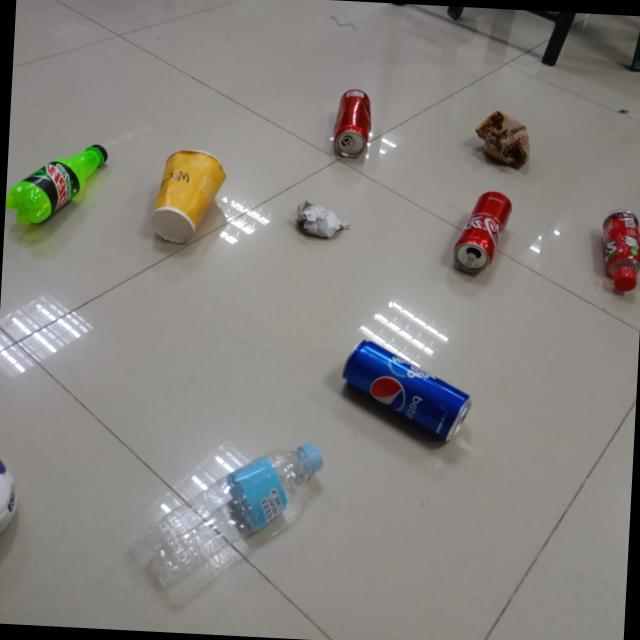recyclable waste: (129, 426, 330, 596), (330, 332, 480, 448), (5, 134, 111, 234), (144, 142, 233, 250), (448, 184, 519, 280), (471, 104, 536, 174), (594, 202, 640, 296), (328, 83, 377, 163), (288, 195, 350, 243)
